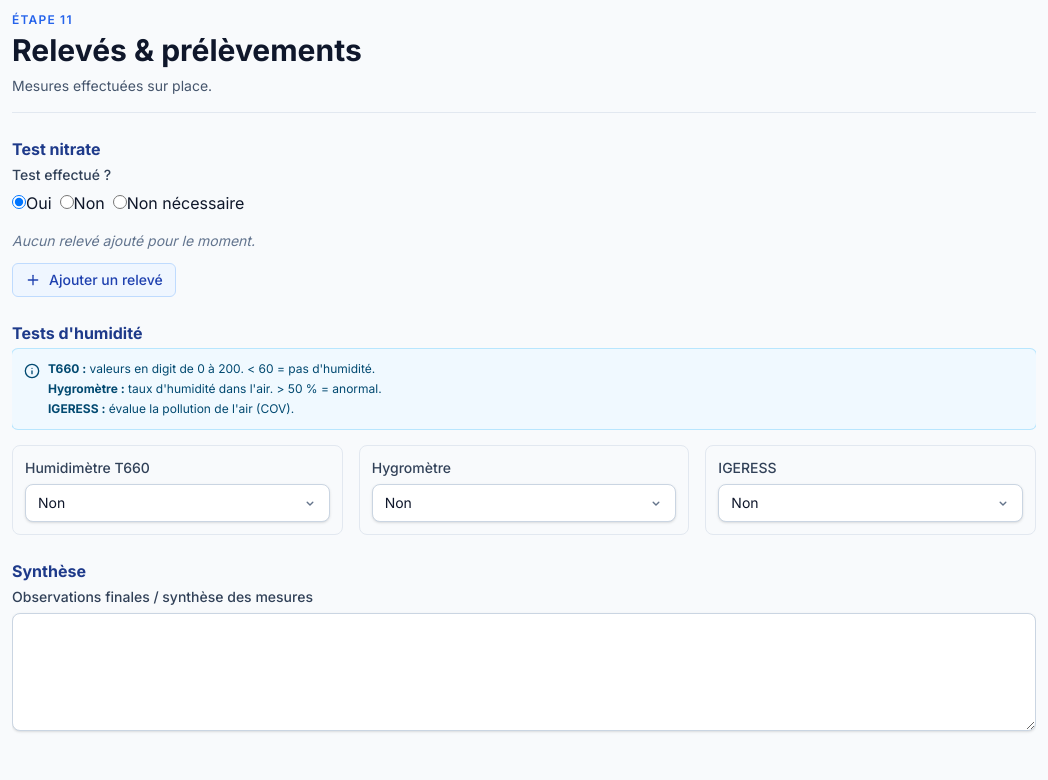
Test case: Step11Releves › RadioGroup Test nitrate › cache la liste des relevés quand on passe à "Non nécessaire"
Expected: the button "Ajouter un relevé" is shown, x1=12 y1=263 x2=176 y2=297
Click the radio button labelled "Non nécessaire".
click(120, 202)  # box x1=113 y1=195 x2=127 y2=209
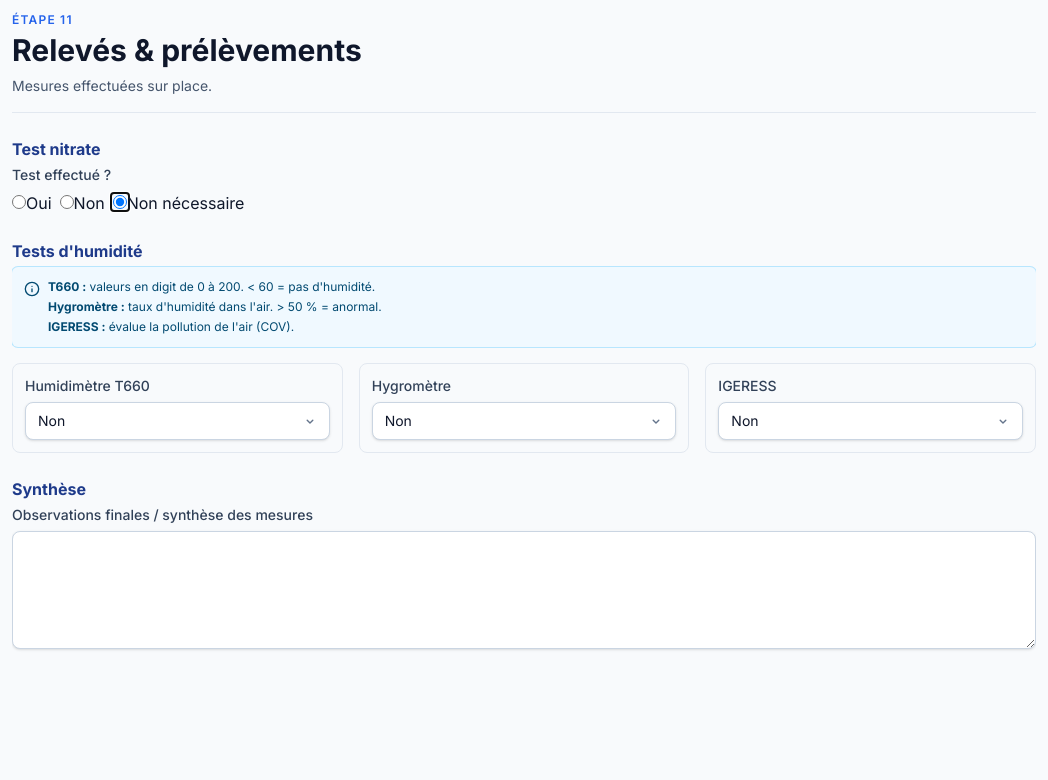
Expected: the button "Ajouter un relevé" is gone
